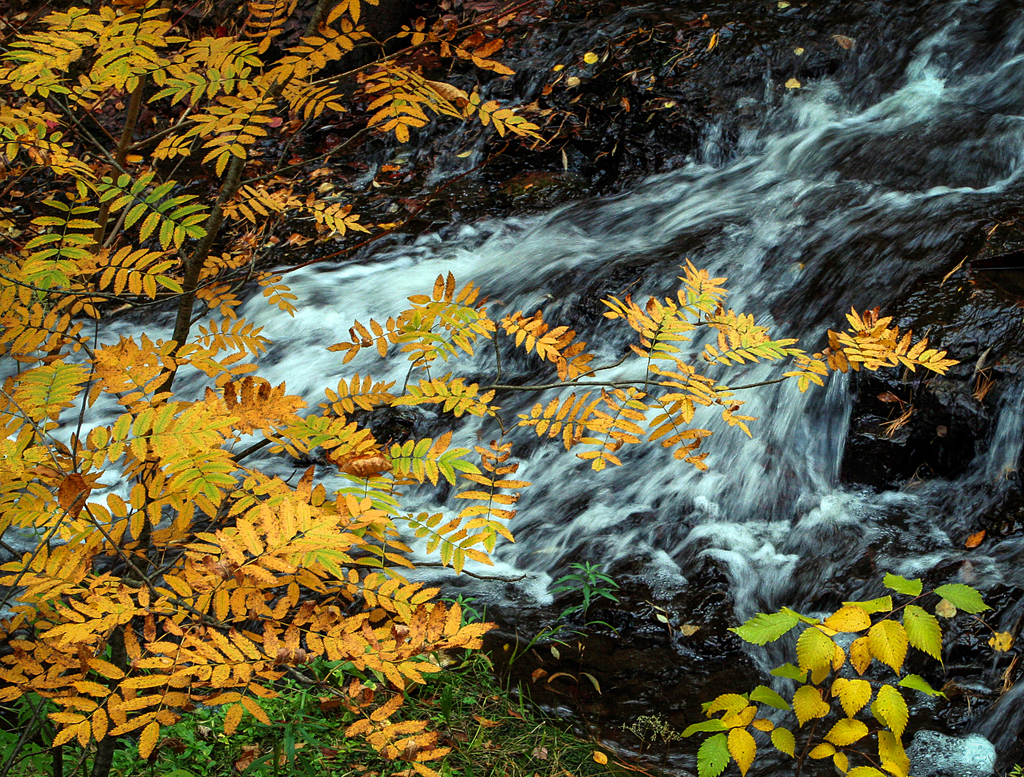Tree: (0, 0, 957, 776)
